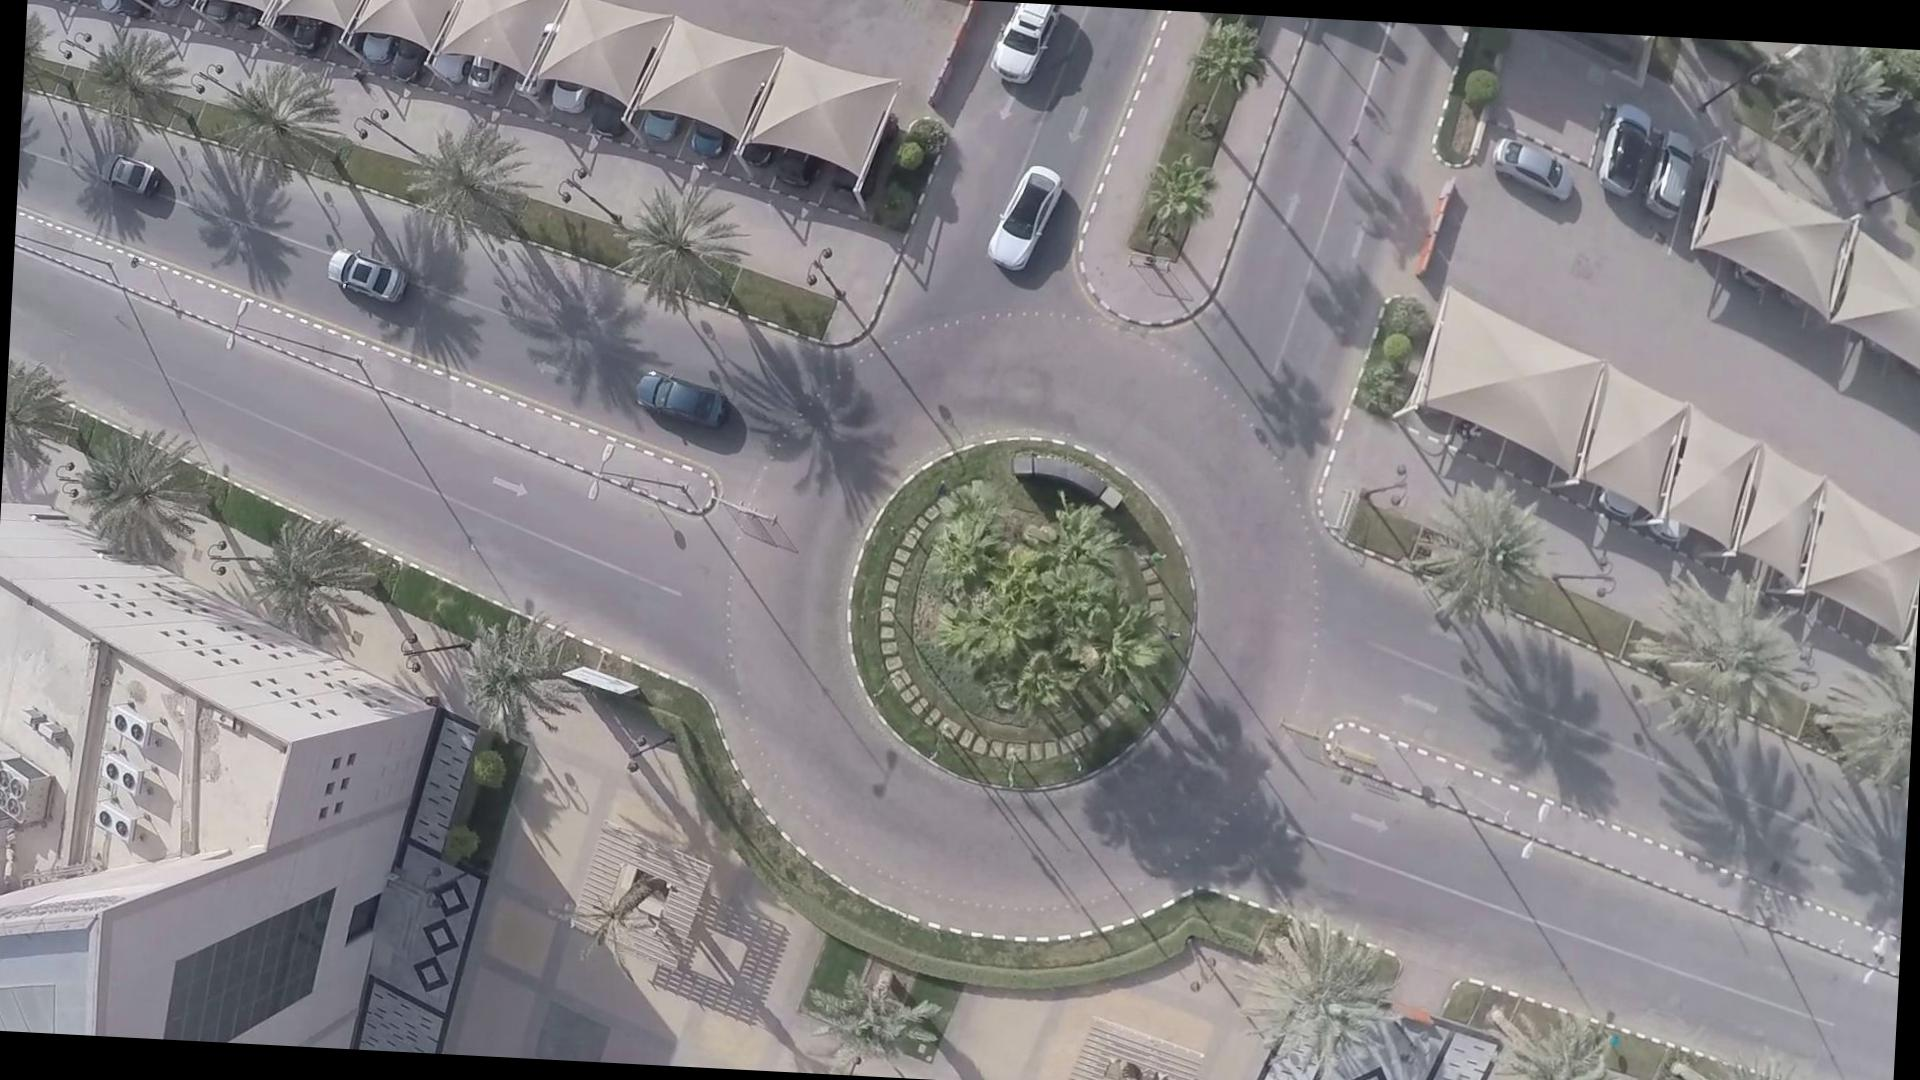vehicle: (602, 359, 740, 432), (322, 238, 412, 308), (994, 160, 1051, 264), (86, 148, 168, 200)
